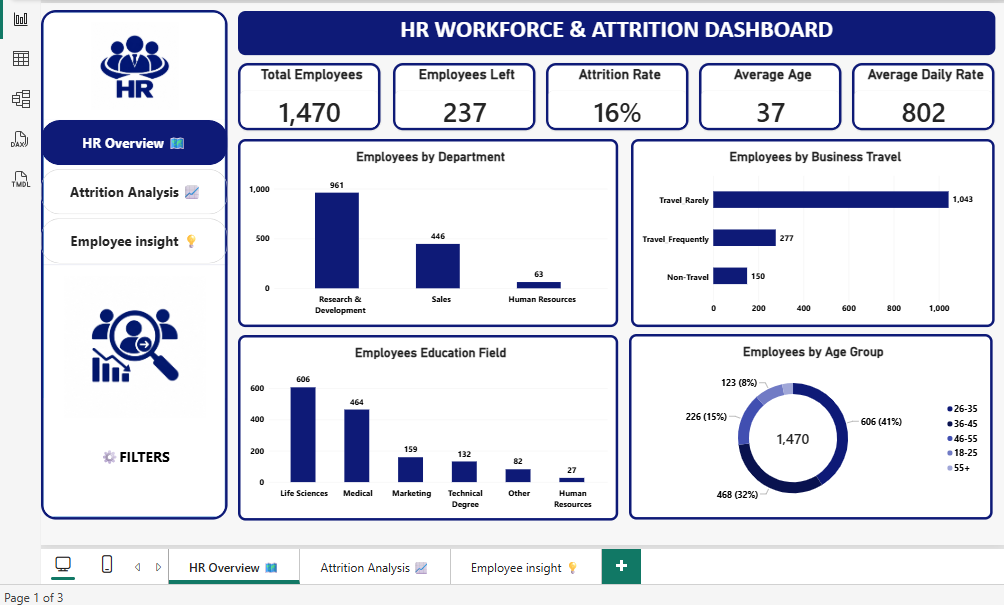

Layout of this report page (visuals, bound fields, positions):
{"tool":"powerbi","page":{"name":"HR Overview 🗺️","canvas":[1920,1080],"ordinal":0},"visuals":[{"type":"shape","box":[0,13.2,372.5,1016.1],"z":0,"group":"g4"},{"type":"group","id":"g1","title":"Group 2","box":[0,13.2,372.5,1016.1],"z":0,"group":"g3"},{"type":"group","id":"g2","title":"Group 5","box":[0,13.2,372.5,1016.1],"z":0,"group":"g5"},{"type":"group","id":"g3","title":"Group 1","box":[0,13.2,372.5,1016.1],"z":0,"group":"g2"},{"type":"group","id":"g4","title":"Group 3","box":[0,13.2,372.5,1016.1],"z":0,"group":"g1"},{"type":"textbox","box":[392.3,15.4,1509.8,88.2],"z":0},{"type":"image","box":[22.8,36.5,330.7,174.1],"z":1000,"group":"g2"},{"type":"cardVisual","title":"Total Employees","fields":{"Data":["hr_db hr_clean.Total Employees"]},"box":[392.3,119,284.3,134.4],"z":1000},{"type":"pageNavigator","box":[0,232.7,372.5,286.5],"z":1000,"group":"g4"},{"type":"cardVisual","title":"Employees Left","fields":{"Data":["hr_db hr_clean.Employees Left"]},"box":[700.9,119,284.3,134.4],"z":2000},{"type":"image","box":[22,543.9,330.6,282.1],"z":2000,"group":"g2"},{"type":"cardVisual","title":"Average Daily Rate","fields":{"Data":["hr_db hr_clean.Average Daily Rate"]},"box":[1617.8,119,284.3,134.4],"z":3000},{"type":"cardVisual","title":"Average Age","fields":{"Data":["hr_db hr_clean.Average Age"]},"box":[1311.4,119,284.3,134.4],"z":4000},{"type":"cardVisual","title":"Attrition Rate","fields":{"Data":["hr_db hr_clean.Attrition Rate"]},"box":[1007.3,119,284.3,134.4],"z":5000},{"type":"clusteredColumnChart","title":"Employees by Department","fields":{"Category":["hr_db hr_clean.Department"],"Y":["hr_db hr_clean.Total Employees"]},"box":[392.3,271.1,758.2,374.7],"z":6000},{"type":"donutChart","title":"Employees by Age Group","fields":{"Category":["hr_db hr_clean.Age_group"],"Y":["hr_db hr_clean.Total Employees"]},"box":[1173,659.2,725.1,370.3],"z":7000},{"type":"barChart","title":"Employees by Business Travel","fields":{"Category":["hr_db hr_clean.Business_Travel"],"Y":["hr_db hr_clean.Total Employees"]},"box":[1177,271.1,725.1,374.7],"z":8000},{"type":"clusteredColumnChart","title":"Employees Education Field","fields":{"Category":["hr_db hr_clean.Education_Field"],"Y":["hr_db hr_clean.Total Employees"]},"box":[392.3,661.2,758.2,370.3],"z":9000},{"type":"group","id":"g5","title":"Navigation","box":[0,13.2,372.5,1016.1],"z":10000,"group":"g6"},{"type":"group","id":"g6","title":"Group 4","box":[0,13.2,372.5,1016.1],"z":11000},{"type":"actionButton","title":"Open Filter","box":[22,844.1,330.6,119],"z":11000,"group":"g6"}]}

Visuals, with their boxes in screenshot pixels (x1, y1, x2, y2):
shape: detection(39, 9, 225, 515)
"Group 2" group: detection(39, 9, 225, 515)
"Group 5" group: detection(39, 9, 225, 515)
"Group 1" group: detection(39, 9, 225, 515)
"Group 3" group: detection(39, 9, 225, 515)
textbox: detection(234, 10, 985, 54)
image: detection(51, 21, 215, 107)
"Total Employees" cardVisual: detection(234, 62, 376, 129)
pageNavigator: detection(39, 118, 225, 261)
"Employees Left" cardVisual: detection(388, 62, 529, 129)
image: detection(50, 273, 215, 413)
"Average Daily Rate" cardVisual: detection(844, 62, 985, 129)
"Average Age" cardVisual: detection(692, 62, 833, 129)
"Attrition Rate" cardVisual: detection(540, 62, 682, 129)
"Employees by Department" clusteredColumnChart: detection(234, 137, 611, 324)
"Employees by Age Group" donutChart: detection(623, 331, 983, 515)
"Employees by Business Travel" barChart: detection(625, 137, 985, 324)
"Employees Education Field" clusteredColumnChart: detection(234, 331, 611, 516)
"Navigation" group: detection(39, 9, 225, 515)
"Group 4" group: detection(39, 9, 225, 515)
"Open Filter" actionButton: detection(50, 422, 215, 482)
